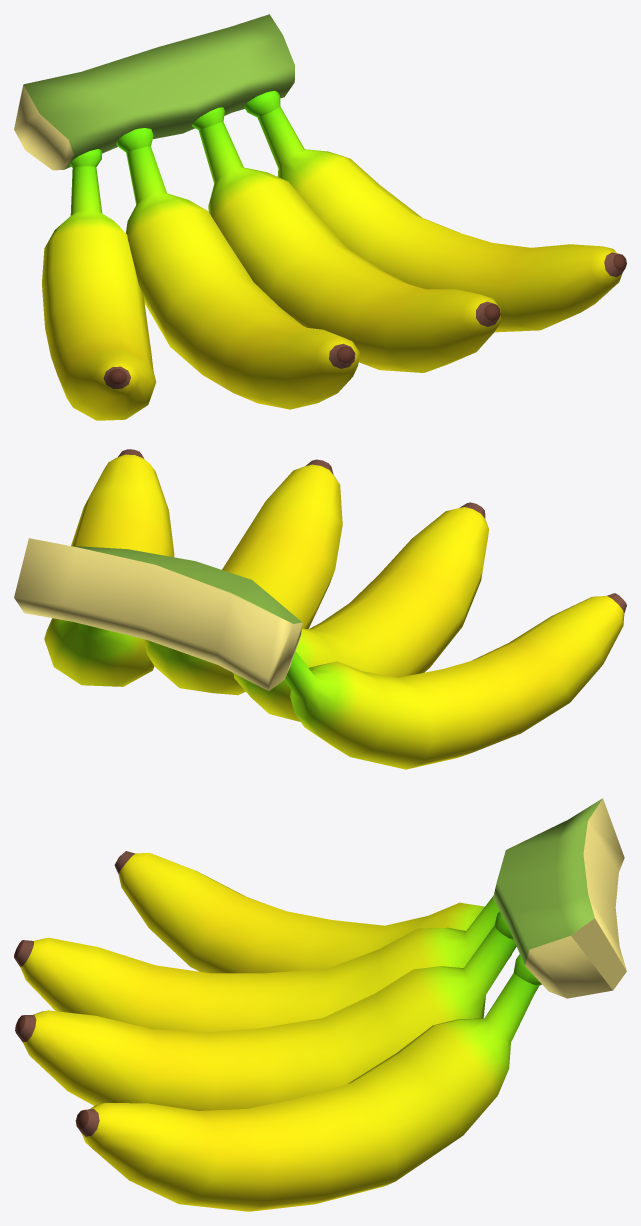
File: SM_Fruits_Banana_Y1.fbx
3 views of the same model, one above another, from view 1: azimuth 30°, elevation 25°; view 2: azimuth 150°, elevation 25°; view 3: azimuth 270°, elevation 25° (orthographic). The views are drawn at different scales.
Parts seen in each view (by area): view 1: SM_Fruits_Banana_Y1; view 2: SM_Fruits_Banana_Y1; view 3: SM_Fruits_Banana_Y1.
Part boxes in pixels (<box>): SM_Fruits_Banana_Y1: <box>14,14,626,420</box>; SM_Fruits_Banana_Y1: <box>14,449,626,769</box>; SM_Fruits_Banana_Y1: <box>14,798,626,1211</box>.
Bounding box in the file's own units: 39.31 × 16.24 × 35.71.
